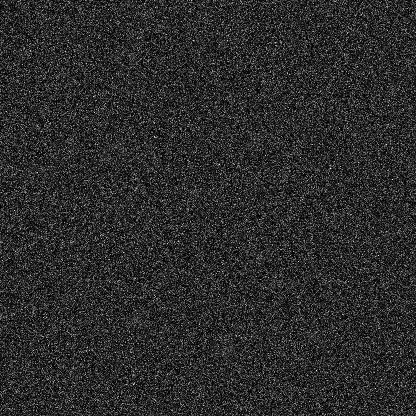Ring: (135, 146, 159, 170), (113, 46, 137, 70), (101, 141, 125, 165), (210, 333, 234, 357)
Spot: (257, 128, 273, 144), (122, 243, 138, 259), (197, 10, 213, 26), (302, 326, 318, 342), (60, 143, 76, 159), (266, 319, 282, 335), (130, 311, 146, 327), (74, 312, 90, 328), (110, 136, 126, 152), (252, 248, 268, 264)
